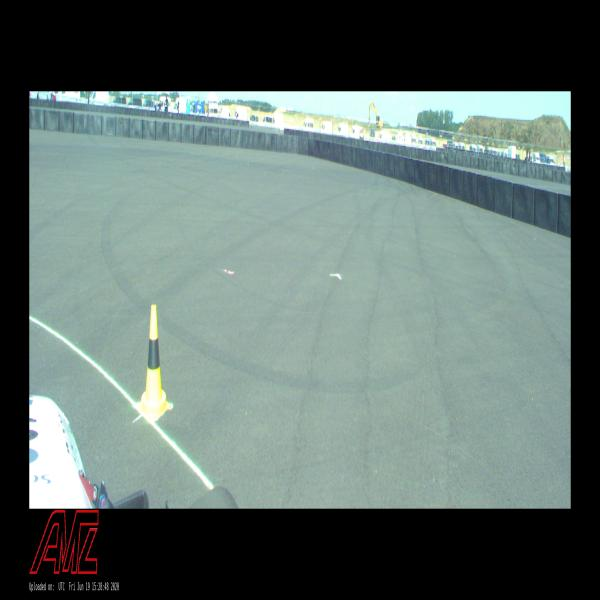yellow_cone: (138, 305, 170, 420)
